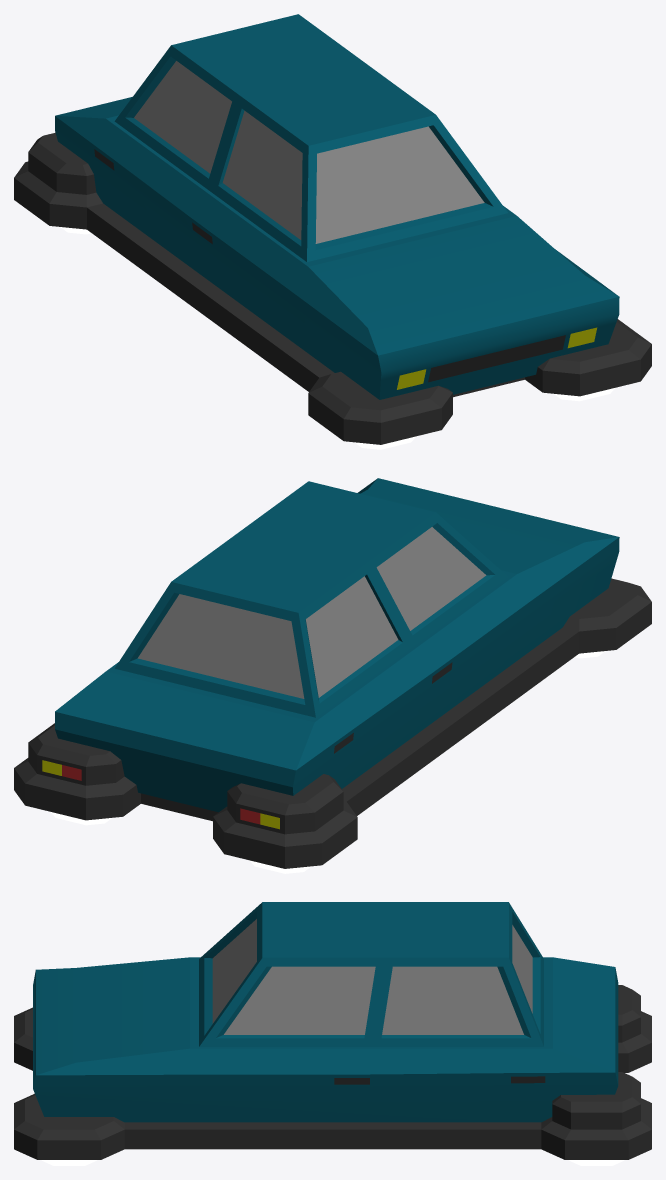
File: MOBIL_NPC_PRIBADI.fbx
3 renders of one model, top to bottom at view 1: azimuth 30°, elevation 25°; view 2: azimuth 150°, elevation 25°; view 3: azimuth 270°, elevation 25°, orthographic. The views are drawn at different scales.
Visible parts, largest first — view 1: MOBIL_NPC_PRIBADI; view 2: MOBIL_NPC_PRIBADI; view 3: MOBIL_NPC_PRIBADI.
Part boxes in pixels (x1,y1,x2,y2): MOBIL_NPC_PRIBADI: (14, 14, 651, 449); MOBIL_NPC_PRIBADI: (14, 478, 651, 873); MOBIL_NPC_PRIBADI: (14, 902, 651, 1165).
Size of the model in its own units: 172 by 107 by 343.
